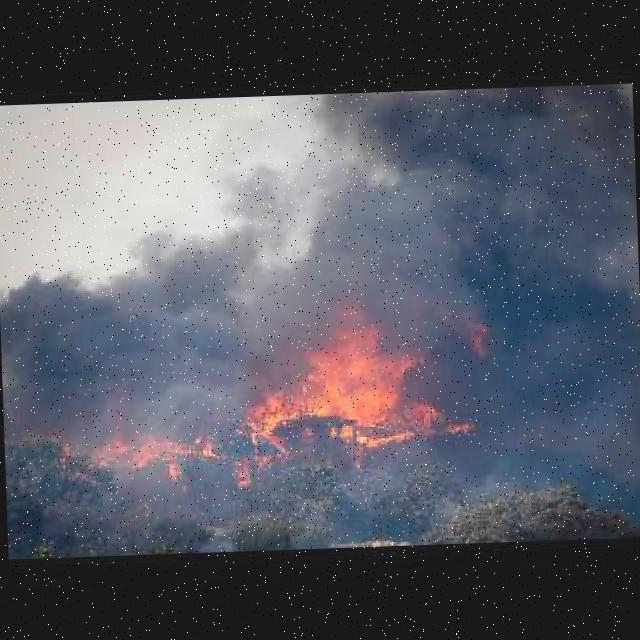Fire: (233, 284, 505, 457), (71, 418, 219, 471)
Smoke: (0, 168, 257, 433)
